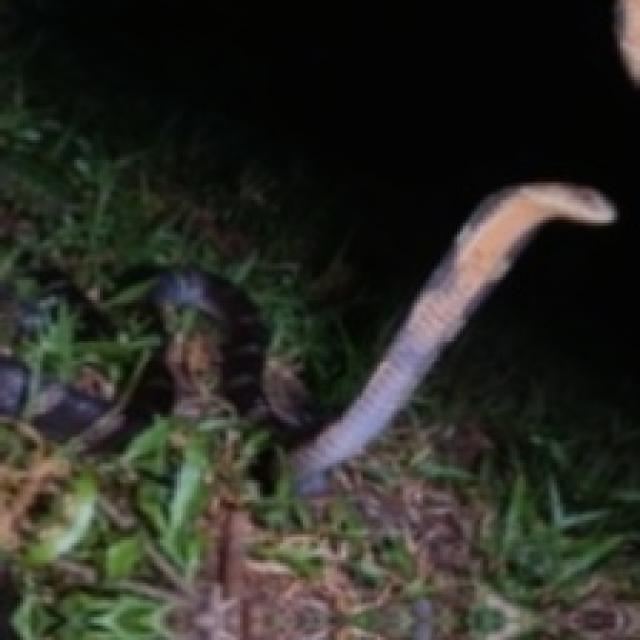king cobra: (291, 183, 614, 491)
